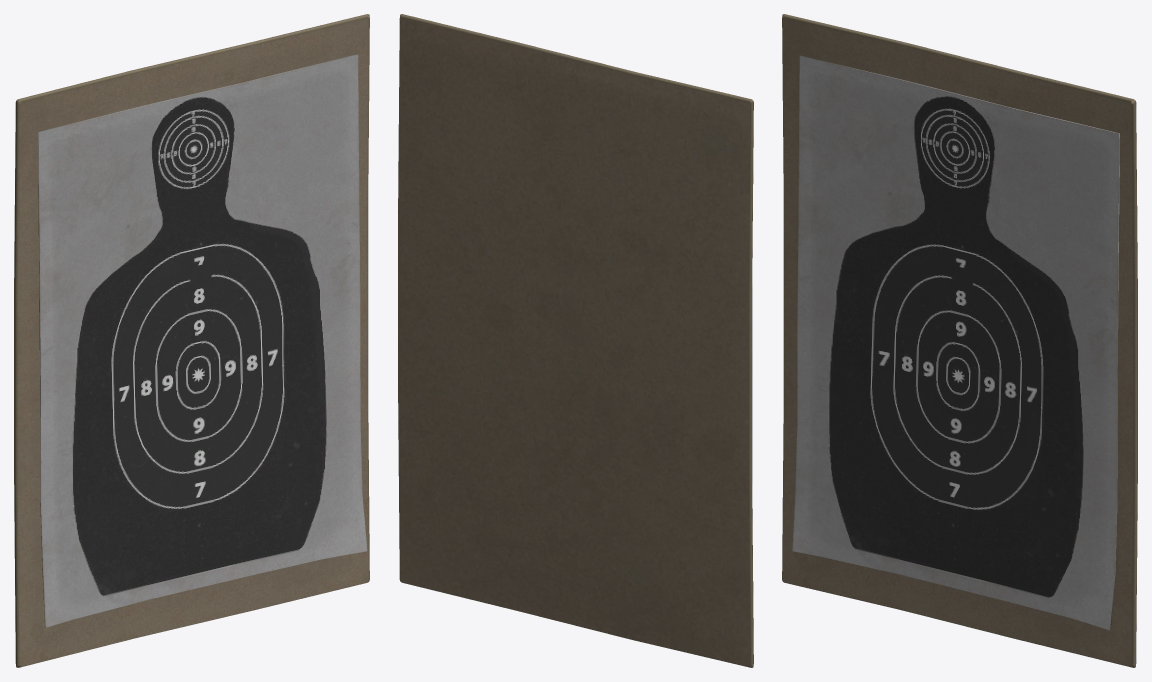
File: SM_Paper_Targets_01c.glb
The picture shows the model from 3 angles, left to right: view 1: azimuth 30°, elevation 25°; view 2: azimuth 150°, elevation 25°; view 3: azimuth 330°, elevation 25°; orthographic projection.
Visible parts, largest first — view 1: SM_Paper_Targets_01c; view 2: SM_Paper_Targets_01c; view 3: SM_Paper_Targets_01c.
Part boxes in pixels (x1,y1,x2,y2): SM_Paper_Targets_01c: [14, 14, 369, 667]; SM_Paper_Targets_01c: [398, 14, 753, 667]; SM_Paper_Targets_01c: [782, 14, 1137, 667].
Bounding box in the file's own units: 0.7305 × 1.12 × 0.0586.
1 material, 1 textured.
